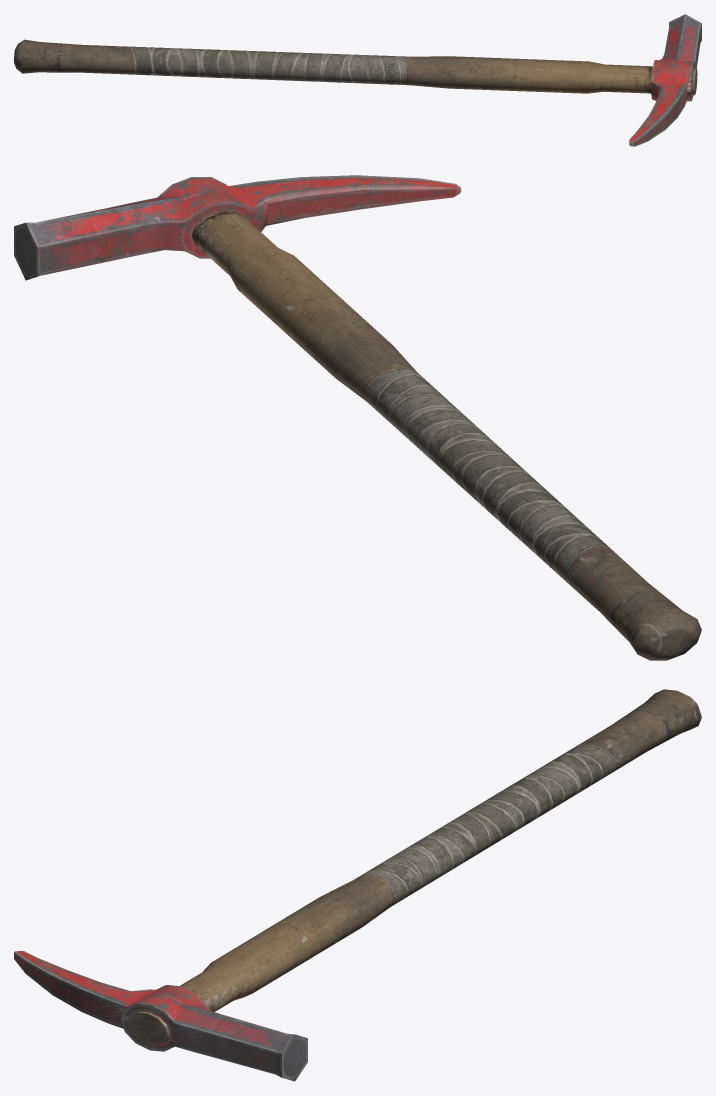
File: sledge_hammer_low-poly.glb
3 renders of one model, top to bottom at view 1: azimuth 30°, elevation 25°; view 2: azimuth 150°, elevation 25°; view 3: azimuth 270°, elevation 25°, orthographic. The views are drawn at different scales.
Parts seen in each view (by area): view 1: Sledge hammer_hammer_0; view 2: Sledge hammer_hammer_0; view 3: Sledge hammer_hammer_0.
Part boxes in pixels (x1,y1,x2,y2): Sledge hammer_hammer_0: [14, 14, 701, 146]; Sledge hammer_hammer_0: [14, 175, 701, 660]; Sledge hammer_hammer_0: [14, 689, 701, 1081].
Bounding box in the file's own units: 0.6118 × 0.037 × 0.4879.
1 material, 1 textured.
